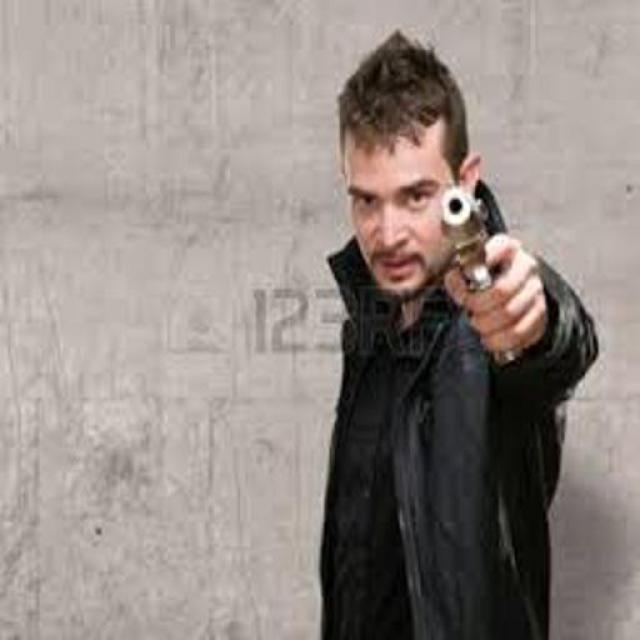pistol: (441, 182, 521, 366)
